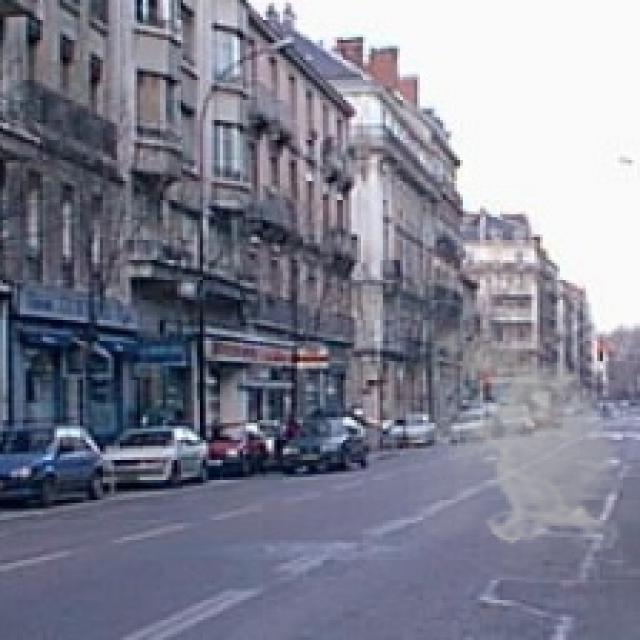Smoke: (408, 322, 632, 548)
